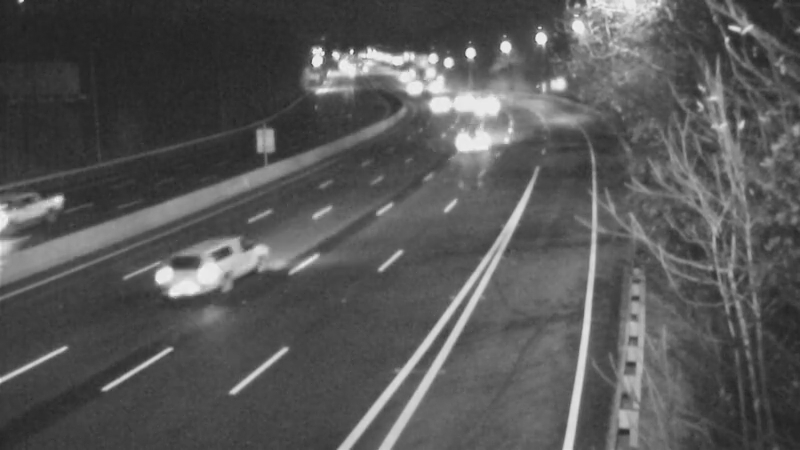vehicle: (151, 230, 231, 310), (1, 171, 72, 251), (409, 65, 459, 115), (386, 64, 436, 114), (440, 76, 490, 126), (415, 83, 465, 133), (460, 85, 510, 135), (446, 118, 496, 168)
